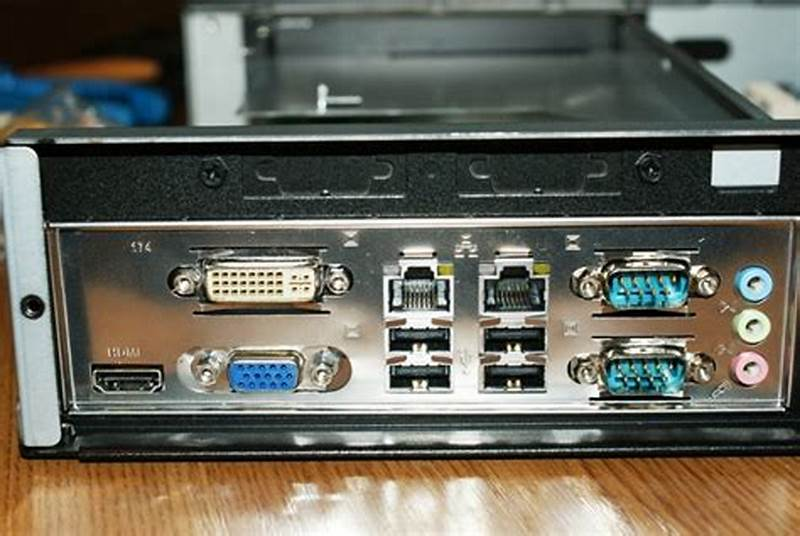DVI: (198, 257, 327, 306)
Ethernet: (478, 250, 556, 325), (384, 260, 458, 324)
USB: (474, 355, 553, 394), (380, 361, 459, 396)
VGA: (221, 354, 308, 396)
